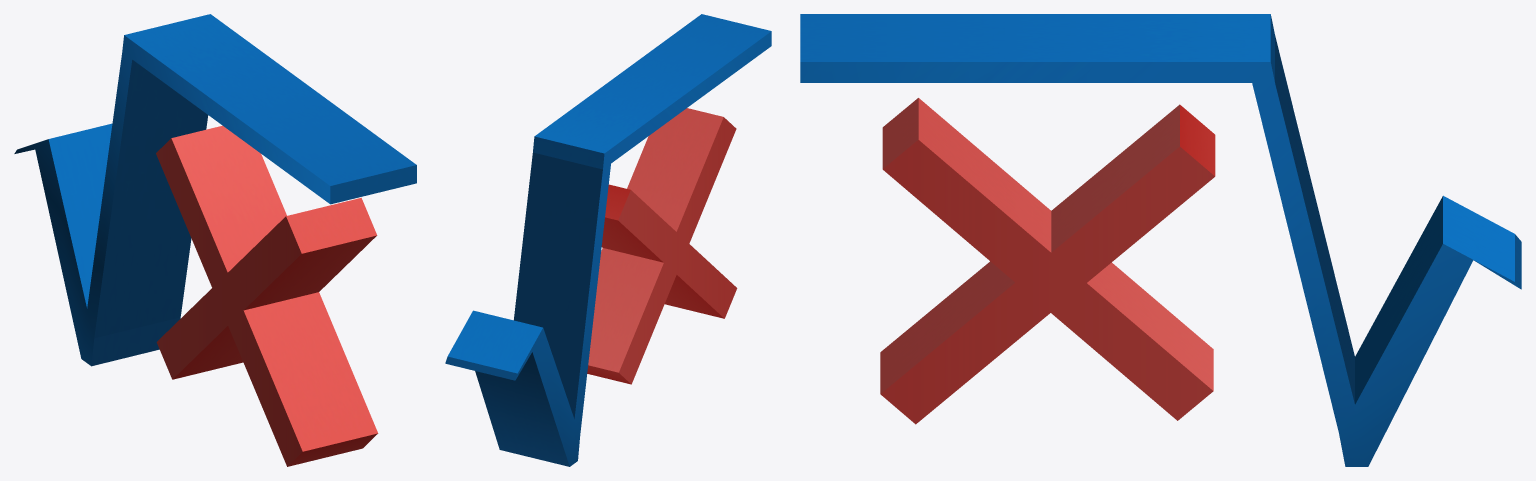
The model's file is SM_RaizCuadrada.fbx.
3 renders of one model, left to right at view 1: azimuth 30°, elevation 25°; view 2: azimuth 150°, elevation 25°; view 3: azimuth 270°, elevation 25°, orthographic. The views are drawn at different scales.
Parts seen in each view (by area): view 1: Raíz; view 2: Raíz; view 3: Raíz.
Boxes of the visible parts, x1=… form: Raíz: x1=14, y1=14, x2=416, y2=466; Raíz: x1=445, y1=14, x2=771, y2=466; Raíz: x1=800, y1=14, x2=1521, y2=466.
Bounding box in the file's own units: 6.41 × 25.17 × 40.62.
1 material, 1 textured.
